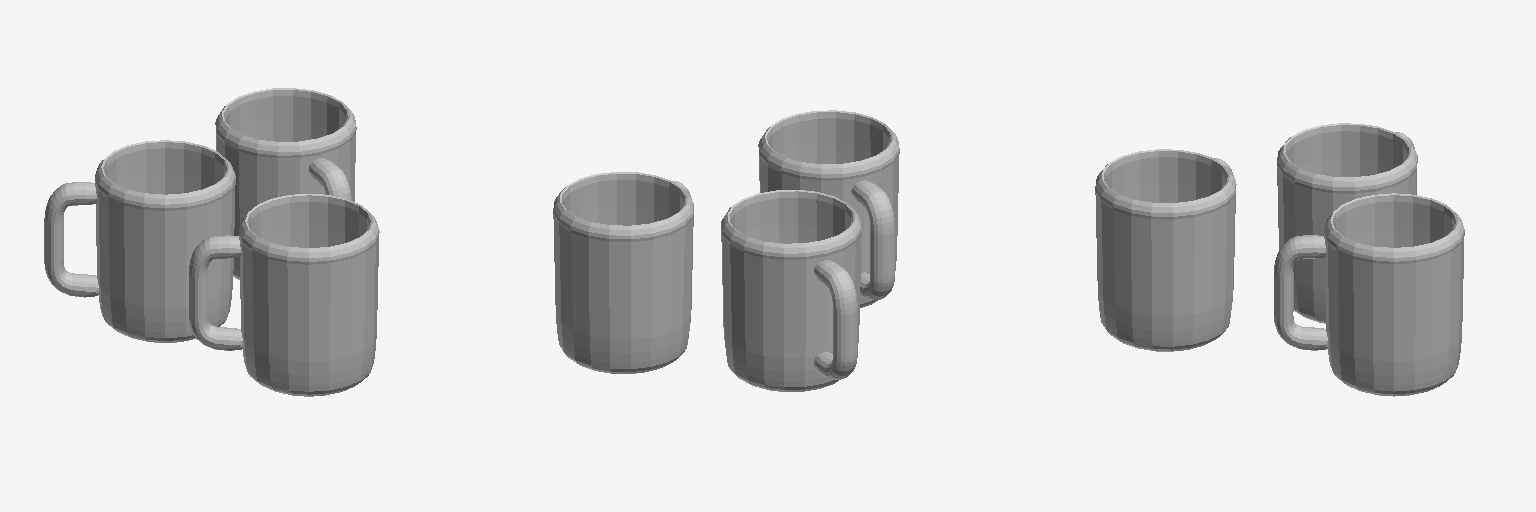
File: LV_CupOnShelf.obj
The picture shows the model from 3 angles: view 1: azimuth 30°, elevation 25°; view 2: azimuth 150°, elevation 25°; view 3: azimuth 270°, elevation 25°; orthographic projection.
Visible parts, largest first — view 1: Lathed_Object_1_355; view 2: Lathed_Object_1_355; view 3: Lathed_Object_1_355.
Boxes of the visible parts, box(x1,y1,x2,y2) form: Lathed_Object_1_355: box(44, 88, 379, 396); Lathed_Object_1_355: box(553, 110, 899, 391); Lathed_Object_1_355: box(1095, 123, 1464, 396).
Size of the model in its own units: 0.3257 by 0.1628 by 0.3506.